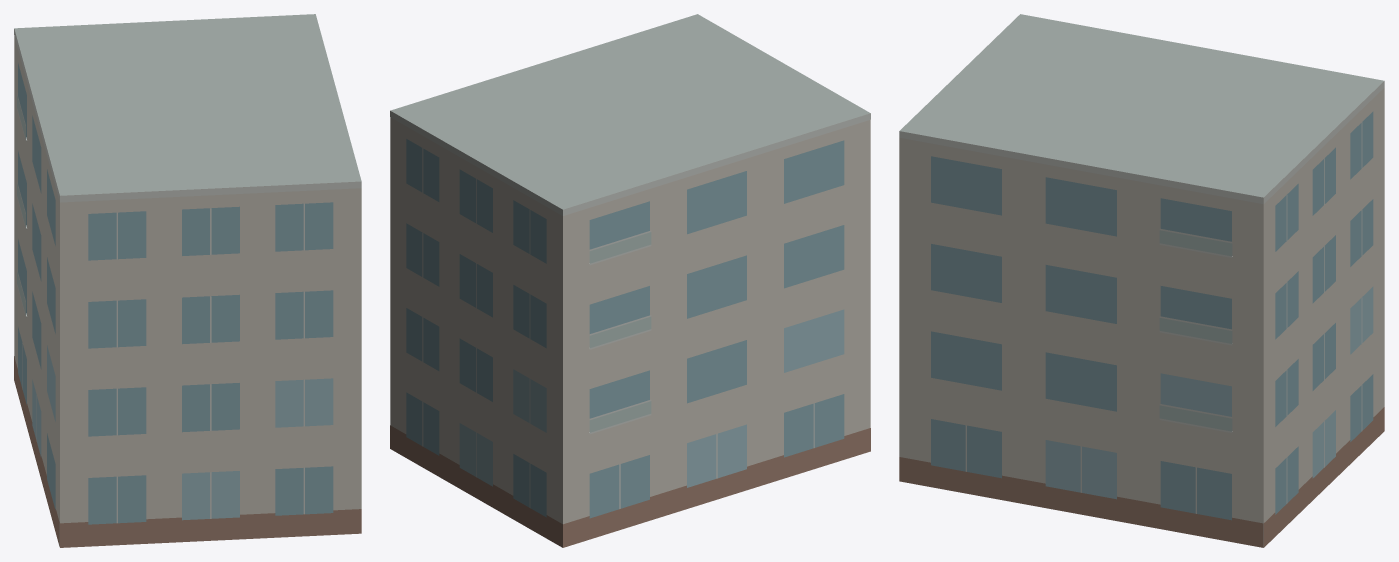
The model's file is survey-upis-32638757.glb.
3 views of the same model, side by side, from view 1: azimuth 30°, elevation 25°; view 2: azimuth 150°, elevation 25°; view 3: azimuth 270°, elevation 25° (orthographic). The views are drawn at different scales.
Visible parts, largest first — view 1: survey-upis-32638757.tmp; view 2: survey-upis-32638757.tmp; view 3: survey-upis-32638757.tmp.
Boxes of the visible parts, x1=… form: survey-upis-32638757.tmp: x1=14, y1=14, x2=361, y2=547; survey-upis-32638757.tmp: x1=390, y1=14, x2=870, y2=547; survey-upis-32638757.tmp: x1=899, y1=14, x2=1384, y2=547.
Bounding box in the file's own units: 14.4 × 12.8 × 16.08.
